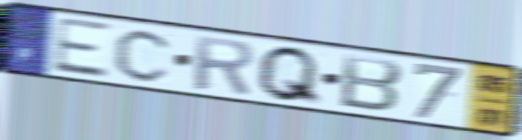7: (411, 61, 465, 120)
B: (337, 51, 405, 115)
C: (111, 27, 176, 84)
E: (49, 15, 113, 80)
Q: (254, 44, 324, 108)
R: (192, 32, 257, 97)
